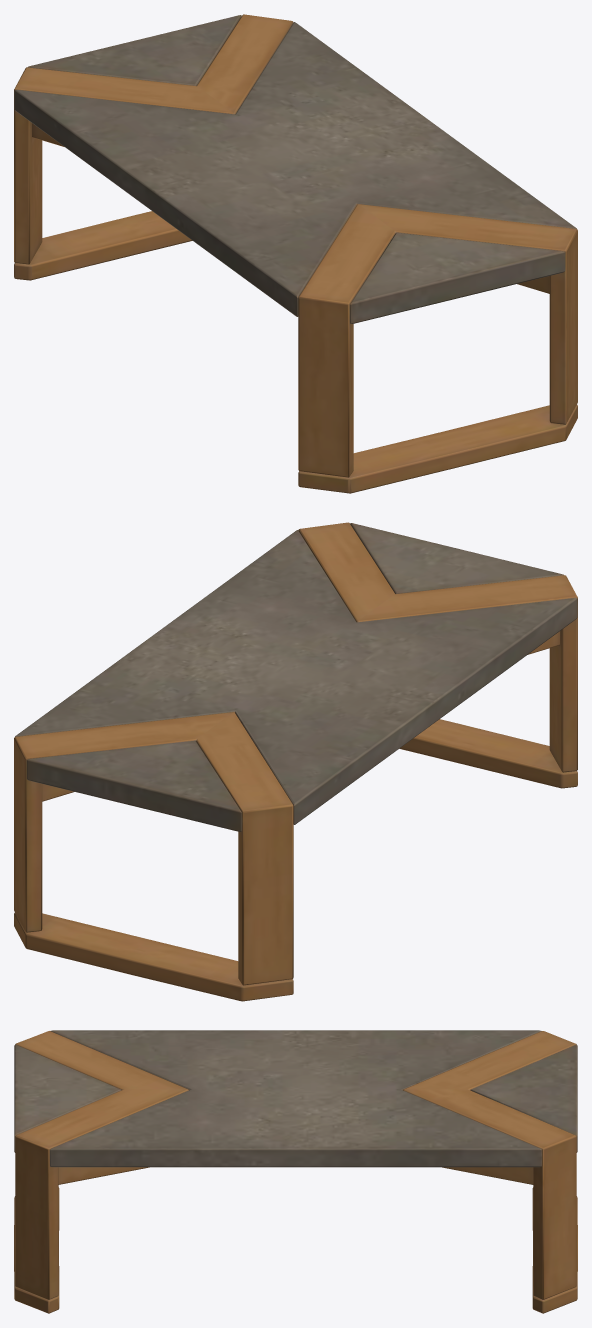
The model's file is mesa-centro-ret.glb.
3 views of the same model, one above another, from view 1: azimuth 30°, elevation 25°; view 2: azimuth 150°, elevation 25°; view 3: azimuth 270°, elevation 25° (orthographic). The views are drawn at different scales.
Parts seen in each view (by area): view 1: modern_coffee_table_01; view 2: modern_coffee_table_01; view 3: modern_coffee_table_01.
Boxes of the visible parts, bbox=[...] form: modern_coffee_table_01: bbox=[14, 14, 577, 493]; modern_coffee_table_01: bbox=[14, 522, 577, 1001]; modern_coffee_table_01: bbox=[14, 1030, 577, 1313].
Size of the model in its own units: 0.5999 by 0.39 by 1.2.
1 material, 1 textured.
